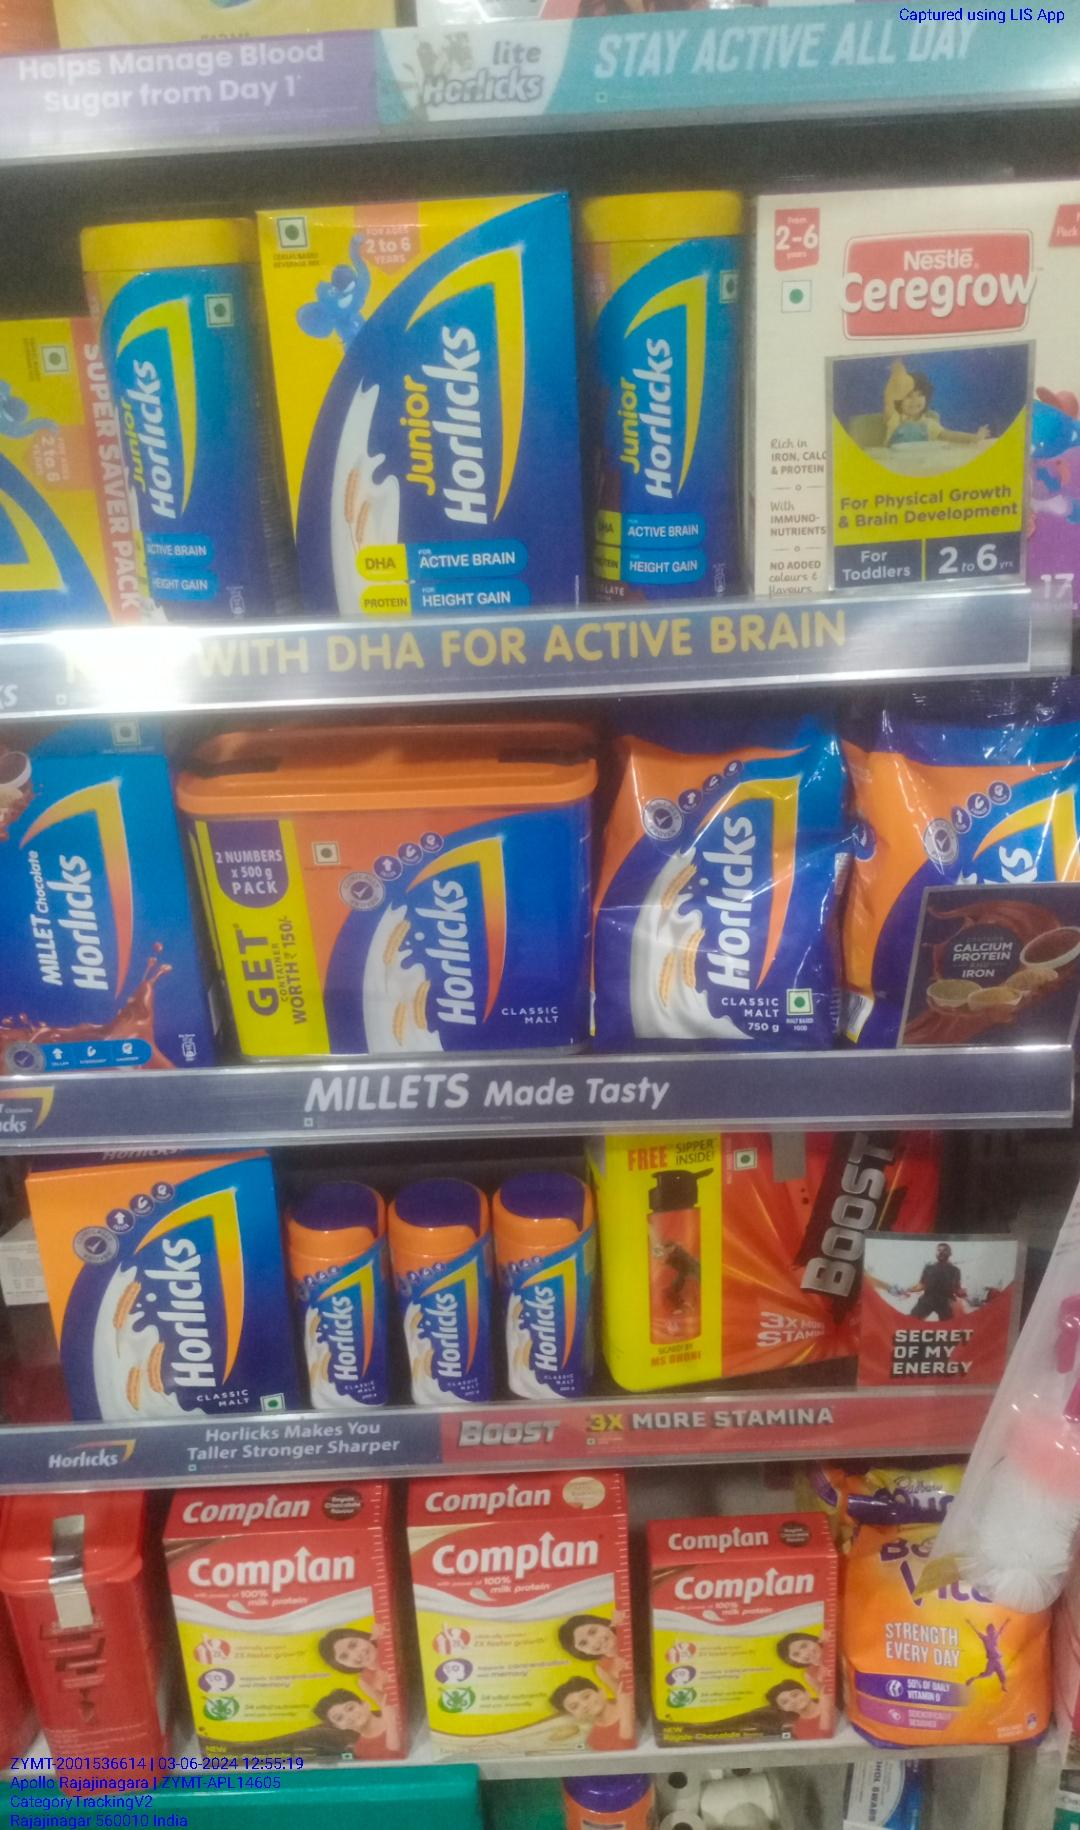HORLICK_CLASSIC_MALT_500_G_JAR: (296, 1175, 391, 1403), (507, 1160, 595, 1402), (404, 1172, 496, 1402)
HORLICK_CLASSIC_MALT_500_G_PACK: (46, 1164, 288, 1412)
HORLICK_CLASSIC_MALT_750_G_POUCH: (612, 740, 838, 1031)
HORLICK_MALT_1_KG_CONTAINER: (211, 742, 577, 1056)
